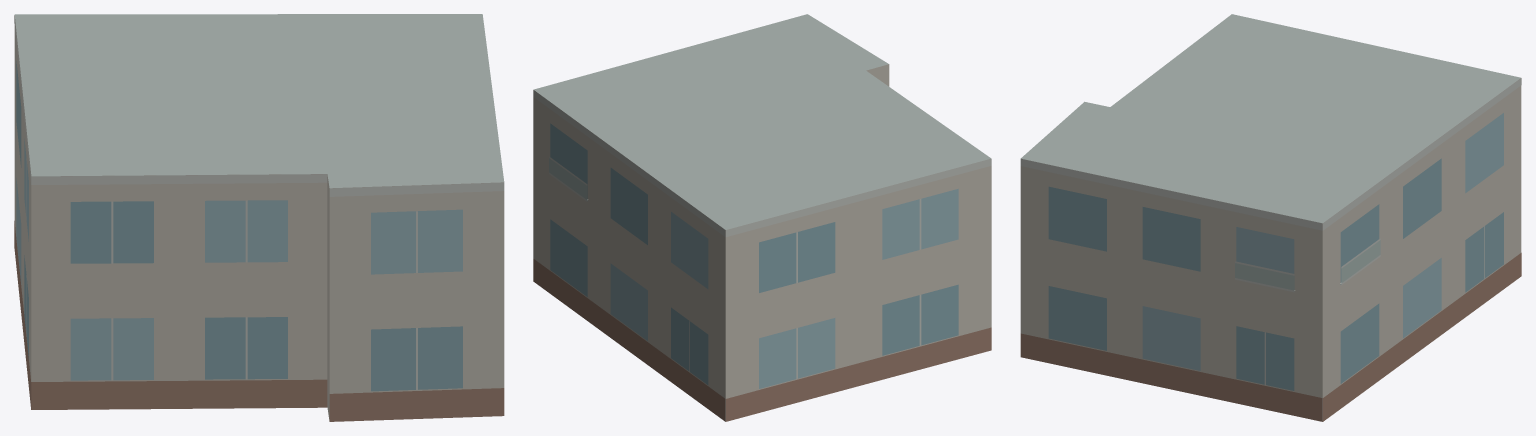
The model's file is survey-upis-32525826.glb.
The picture shows the model from 3 angles, left to right: view 1: azimuth 30°, elevation 25°; view 2: azimuth 150°, elevation 25°; view 3: azimuth 270°, elevation 25°; orthographic projection. The views are drawn at different scales.
Visible parts, largest first — view 1: survey-upis-32525826.tmp; view 2: survey-upis-32525826.tmp; view 3: survey-upis-32525826.tmp.
Part boxes in pixels (box(x1,y1,x2,y2)): survey-upis-32525826.tmp: box(14, 14, 504, 421); survey-upis-32525826.tmp: box(533, 14, 991, 421); survey-upis-32525826.tmp: box(1020, 14, 1521, 421).
Bounding box in the file's own units: 14.71 × 6.5 × 14.87.
